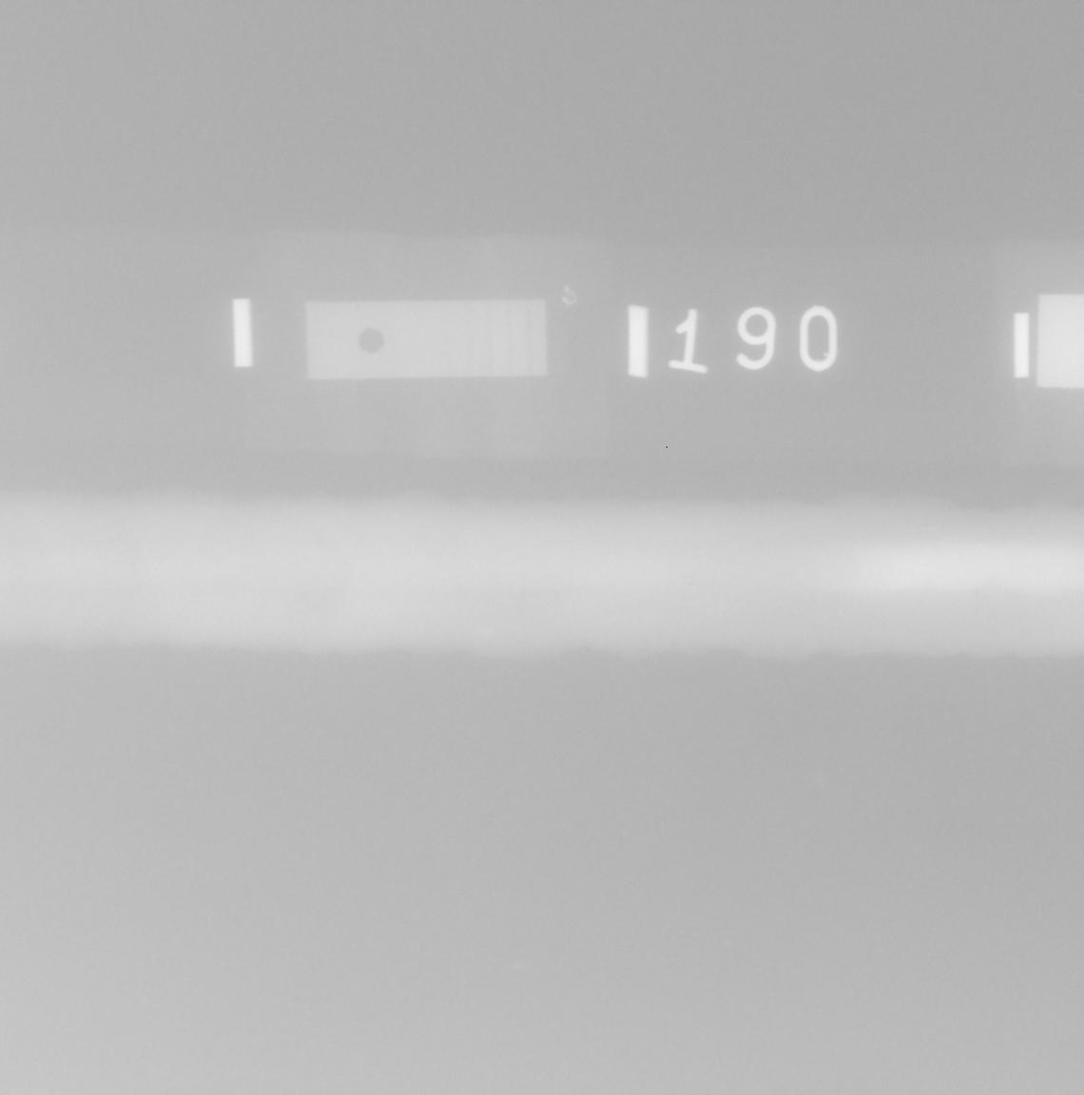Pore/Porosity: (972, 590, 981, 596), (981, 595, 988, 601), (688, 582, 694, 586)
Reference Standard 1: (305, 300, 547, 379)
